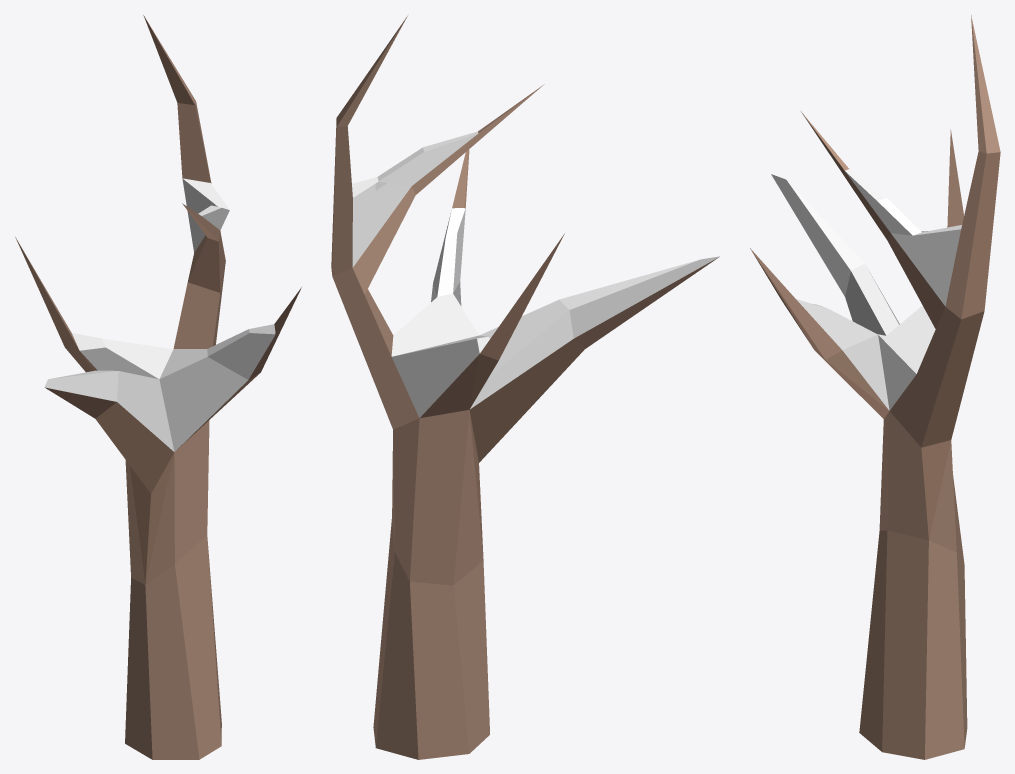
The model's file is TreeWinter6.fbx.
3 renders of one model, left to right at view 1: azimuth 30°, elevation 25°; view 2: azimuth 150°, elevation 25°; view 3: azimuth 270°, elevation 25°, orthographic. The views are drawn at different scales.
Visible parts, largest first — view 1: TreeWinter6; view 2: TreeWinter6; view 3: TreeWinter6.
Boxes of the visible parts, box(x1,y1,x2,y2) form: TreeWinter6: box(15, 15, 301, 759); TreeWinter6: box(331, 16, 719, 759); TreeWinter6: box(750, 15, 1000, 759).
Bounding box in the file's own units: 0.8585 × 2.11 × 0.6677.
